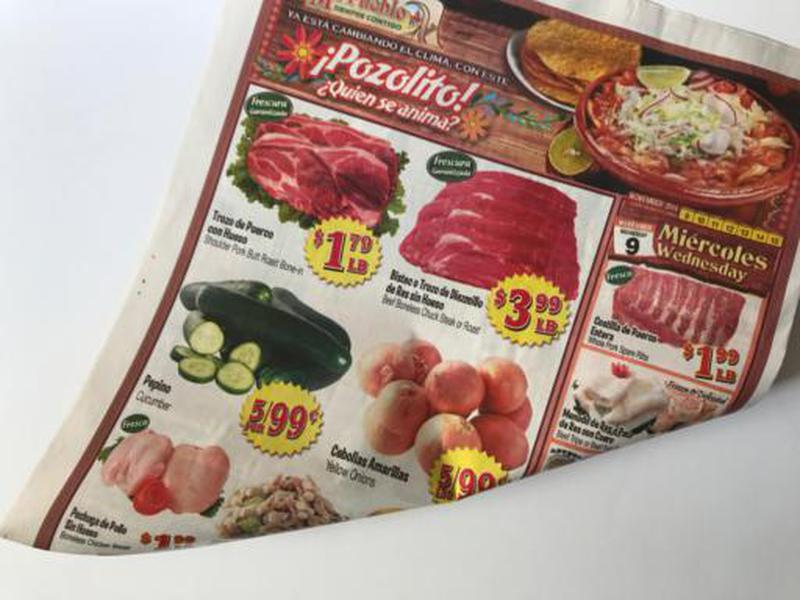paper: (1, 1, 800, 561)
